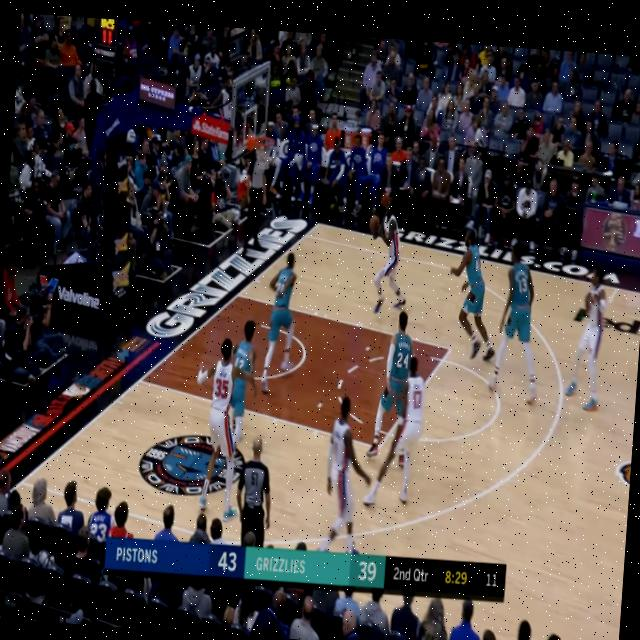no foul: (437, 212, 556, 412), (360, 306, 438, 510), (185, 308, 252, 521)
